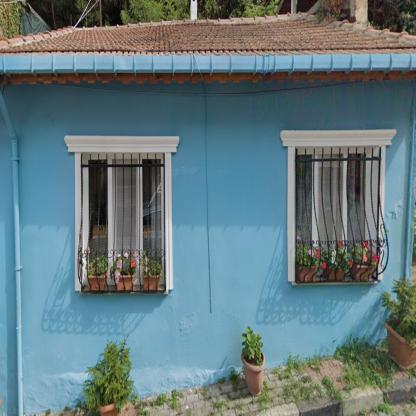window: (85, 160, 163, 260), (296, 153, 368, 241)
